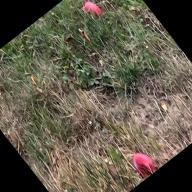Apples: (129, 148, 158, 180), (82, 0, 105, 23)
